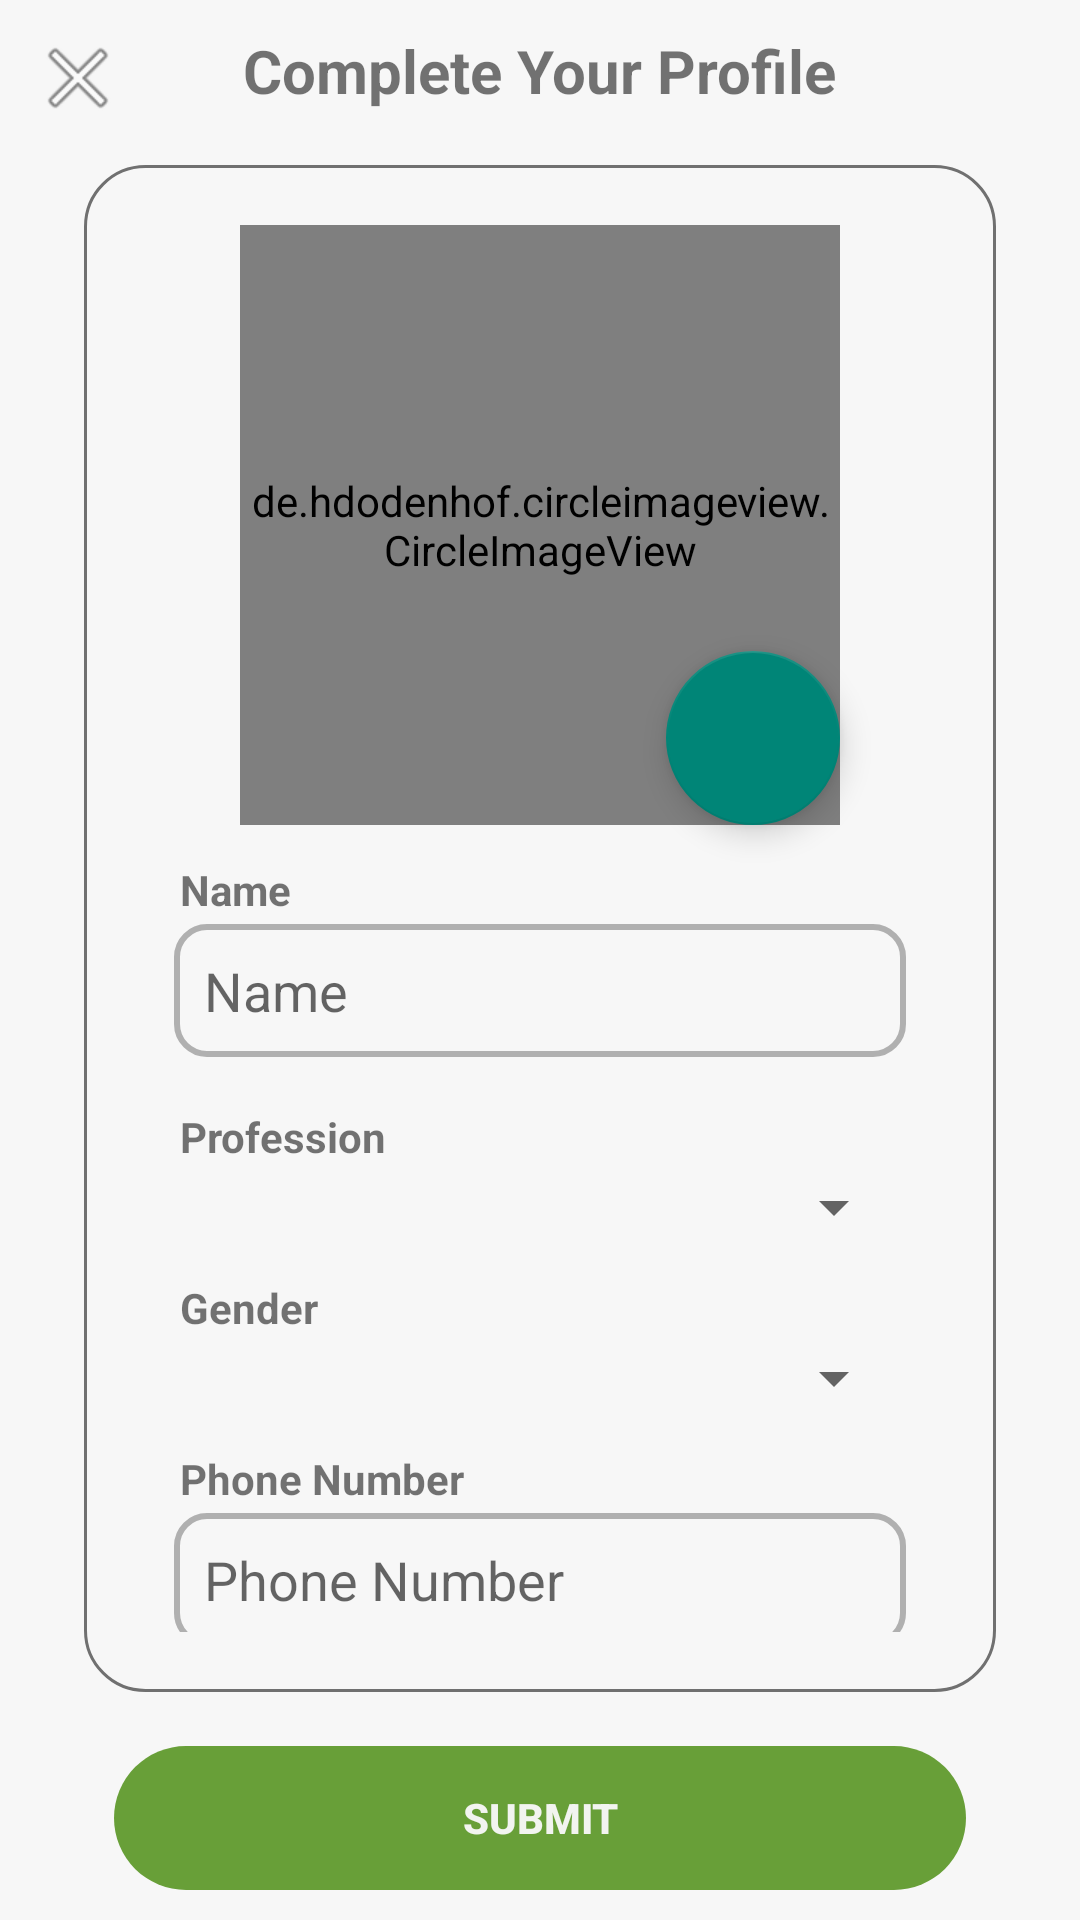

Where to tap for icons on this 1080px x 1920px app screen, as (x,y):
close clear cancel: (78,78)
